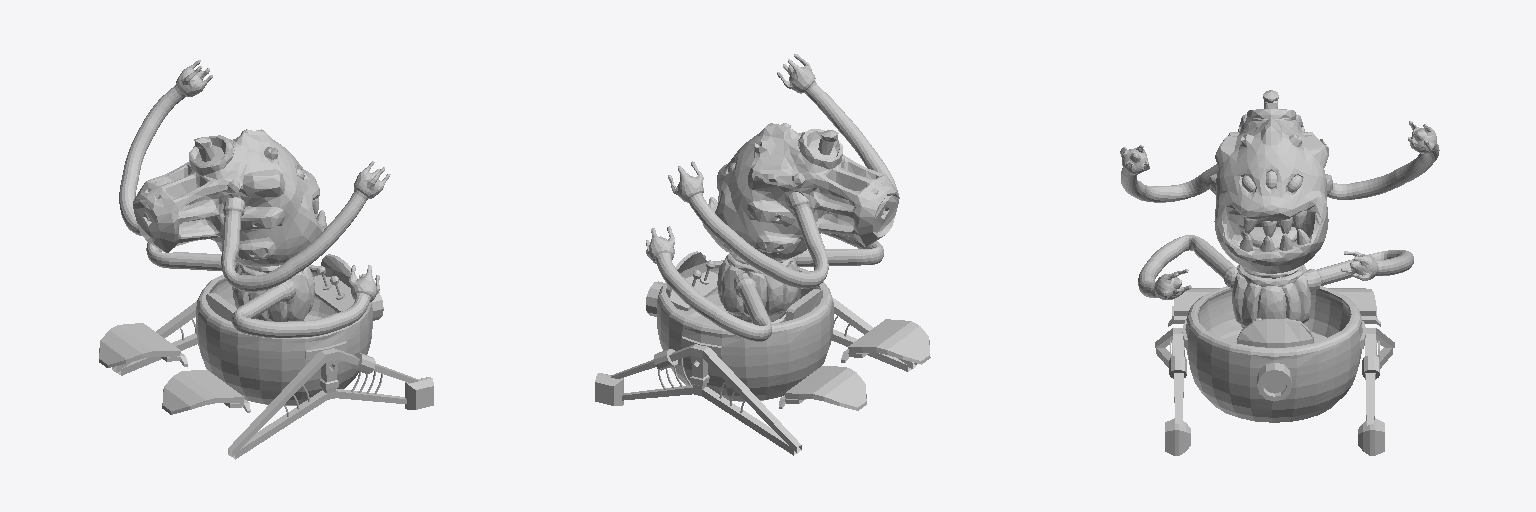
The model's file is victoryoctopus_000008.obj.
The picture shows the model from 3 angles: view 1: azimuth 30°, elevation 25°; view 2: azimuth 150°, elevation 25°; view 3: azimuth 270°, elevation 25°; orthographic projection.
Parts seen in each view (by area): view 1: head_low, body, arm_up_low_arm_down_low.001, carmature, arm_down_low_arm_down_low.000, wheelprotection, body_low, joint_front, panel, glass; view 2: head_low, body, arm_up_low_arm_down_low.001, carmature, arm_down_low_arm_down_low.000, wheelprotection, body_low, joint_front, cchair, panel, glass; view 3: body, head_low, arm_down_low_arm_down_low.000, arm_up_low_arm_down_low.001, body_low, carmature, glass, joint_front, wheelprotection, teeth_low, mouth_tube, tank (+1 smaller).
Part boxes in pixels (x1,y1,x2,y2): head_low: (133,129,326,267); body: (196,265,372,405); arm_up_low_arm_down_low.001: (119,60,390,291); carmature: (112,301,417,459); arm_down_low_arm_down_low.000: (146,242,379,337); wheelprotection: (99,323,250,414); body_low: (232,263,314,321); joint_front: (405,377,433,409); panel: (313,275,354,312); glass: (321,254,357,287); head_low: (703,123,899,260); body: (657,260,833,401); arm_up_low_arm_down_low.001: (668,54,897,288); carmature: (611,297,916,455); arm_down_low_arm_down_low.000: (646,226,883,341); wheelprotection: (779,319,930,410); body_low: (717,253,798,323); joint_front: (595,373,623,405); cchair: (784,289,822,321); panel: (670,271,717,310); glass: (666,251,706,297); body: (1182,286,1366,422); head_low: (1210,90,1332,273); arm_down_low_arm_down_low.000: (1138,235,1413,299); arm_up_low_arm_down_low.001: (1120,121,1439,202); body_low: (1232,265,1310,328); carmature: (1155,328,1394,426); glass: (1237,319,1313,347); joint_front: (1165,418,1384,455); wheelprotection: (1168,288,1380,326); teeth_low: (1239,211,1310,251); mouth_tube: (1257,362,1291,401); tank: (1169,355,1379,378).
Bounding box in the file's own units: 2.98 × 3.21 × 3.32.